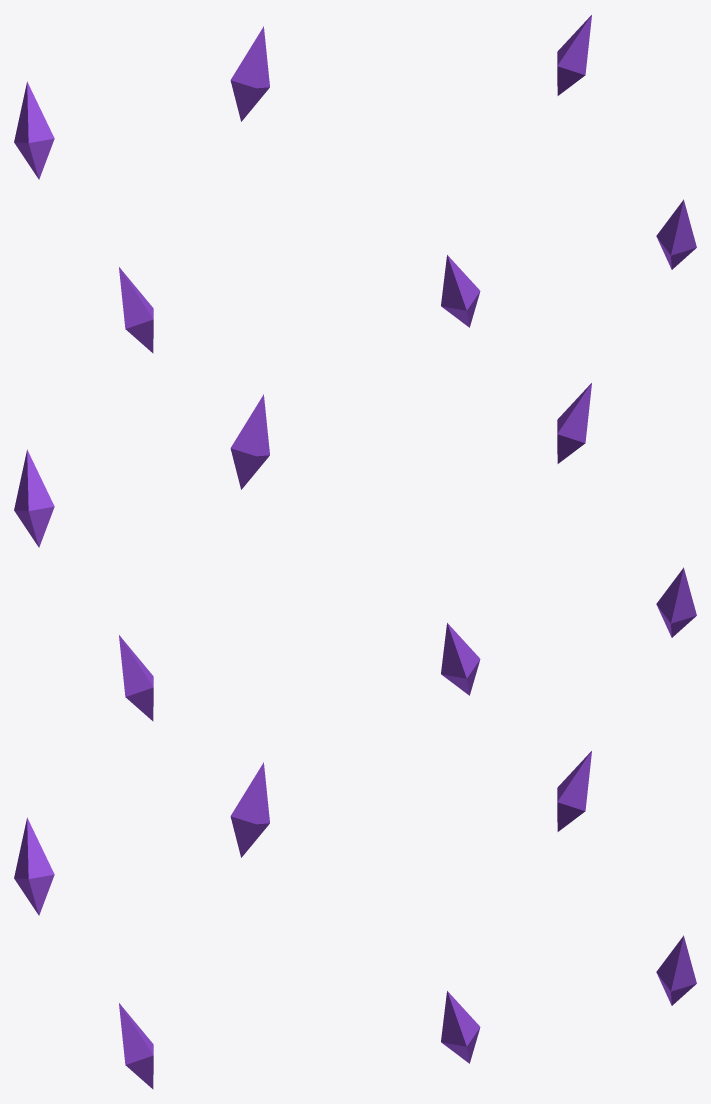
Rendered from nexus_orbit.fbx.
3 views of the same model, one above another, from view 1: azimuth 30°, elevation 25°; view 2: azimuth 150°, elevation 25°; view 3: azimuth 270°, elevation 25° (orthographic).
Parts seen in each view (by area): view 1: part_orbit; view 2: part_orbit; view 3: part_orbit.
Part boxes in pixels (box(x1,y1,x2,y2)): part_orbit: box(14, 15, 696, 353); part_orbit: box(14, 383, 696, 721); part_orbit: box(14, 751, 696, 1089).
Size of the model in its own units: 4.04 by 0.8921 by 4.18.
